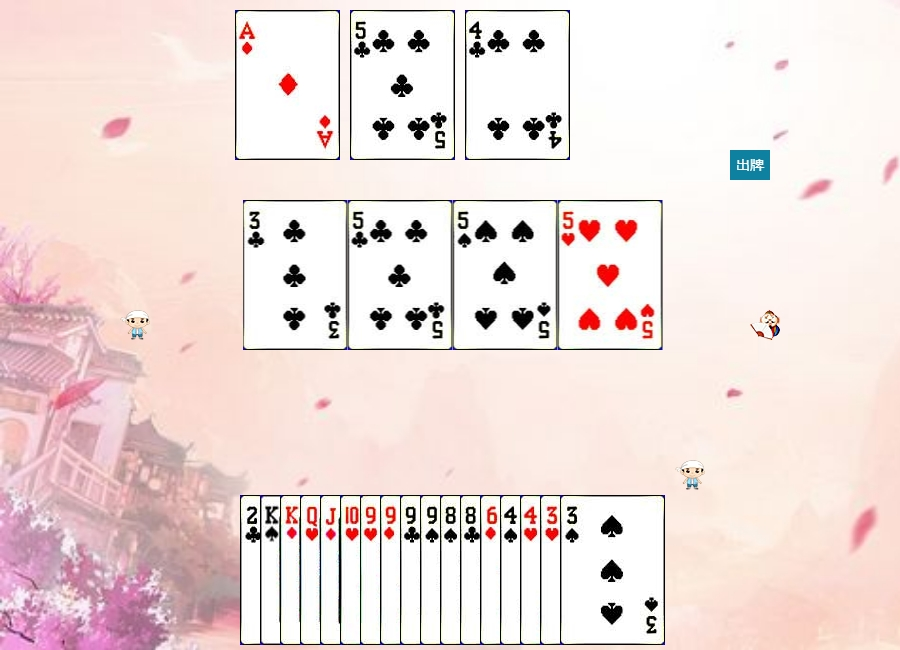10~3: (340, 495, 445, 645)
11~1: (320, 495, 425, 645)
12~3: (300, 495, 405, 645)
13~1: (280, 495, 385, 645)
13~4: (260, 495, 365, 645)
14~1: (235, 10, 340, 160)
15~2: (240, 495, 345, 645)
3~2: (243, 200, 348, 350)
3~3: (540, 495, 645, 645)
3~4: (560, 495, 665, 645)
4~2: (465, 10, 570, 160)
4~3: (520, 495, 625, 645)
4~4: (500, 495, 605, 645)
5~2: (350, 10, 455, 160), (348, 200, 453, 350)
5~3: (558, 200, 663, 350)
5~4: (453, 200, 558, 350)
6~1: (480, 495, 585, 645)
8~2: (460, 495, 565, 645)
8~4: (440, 495, 545, 645)
9~1: (380, 495, 485, 645)
9~2: (400, 495, 505, 645)
9~3: (360, 495, 465, 645)
9~4: (420, 495, 525, 645)
